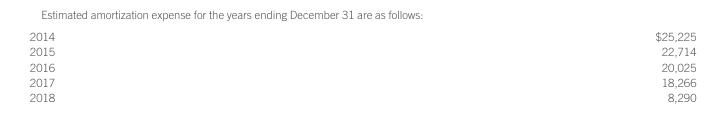table: (28, 29, 695, 103)
table column: (354, 29, 695, 103), (28, 29, 354, 103)
table row: (28, 73, 695, 89), (28, 43, 695, 58), (28, 58, 695, 73), (28, 29, 695, 43), (28, 89, 695, 103)
